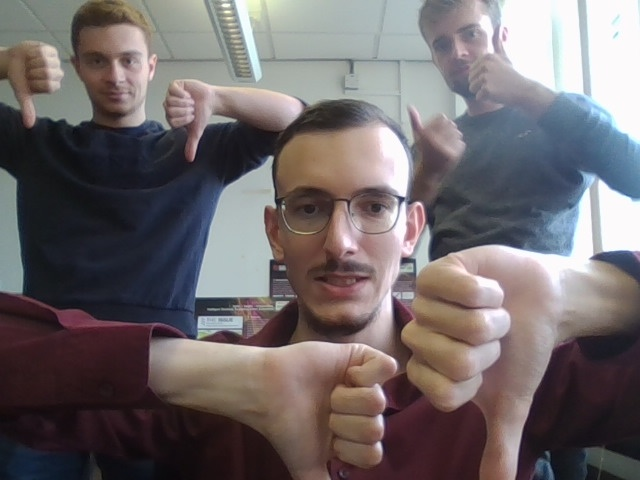thumbdown: (401, 245, 557, 480), (7, 40, 64, 128), (165, 79, 214, 162)
